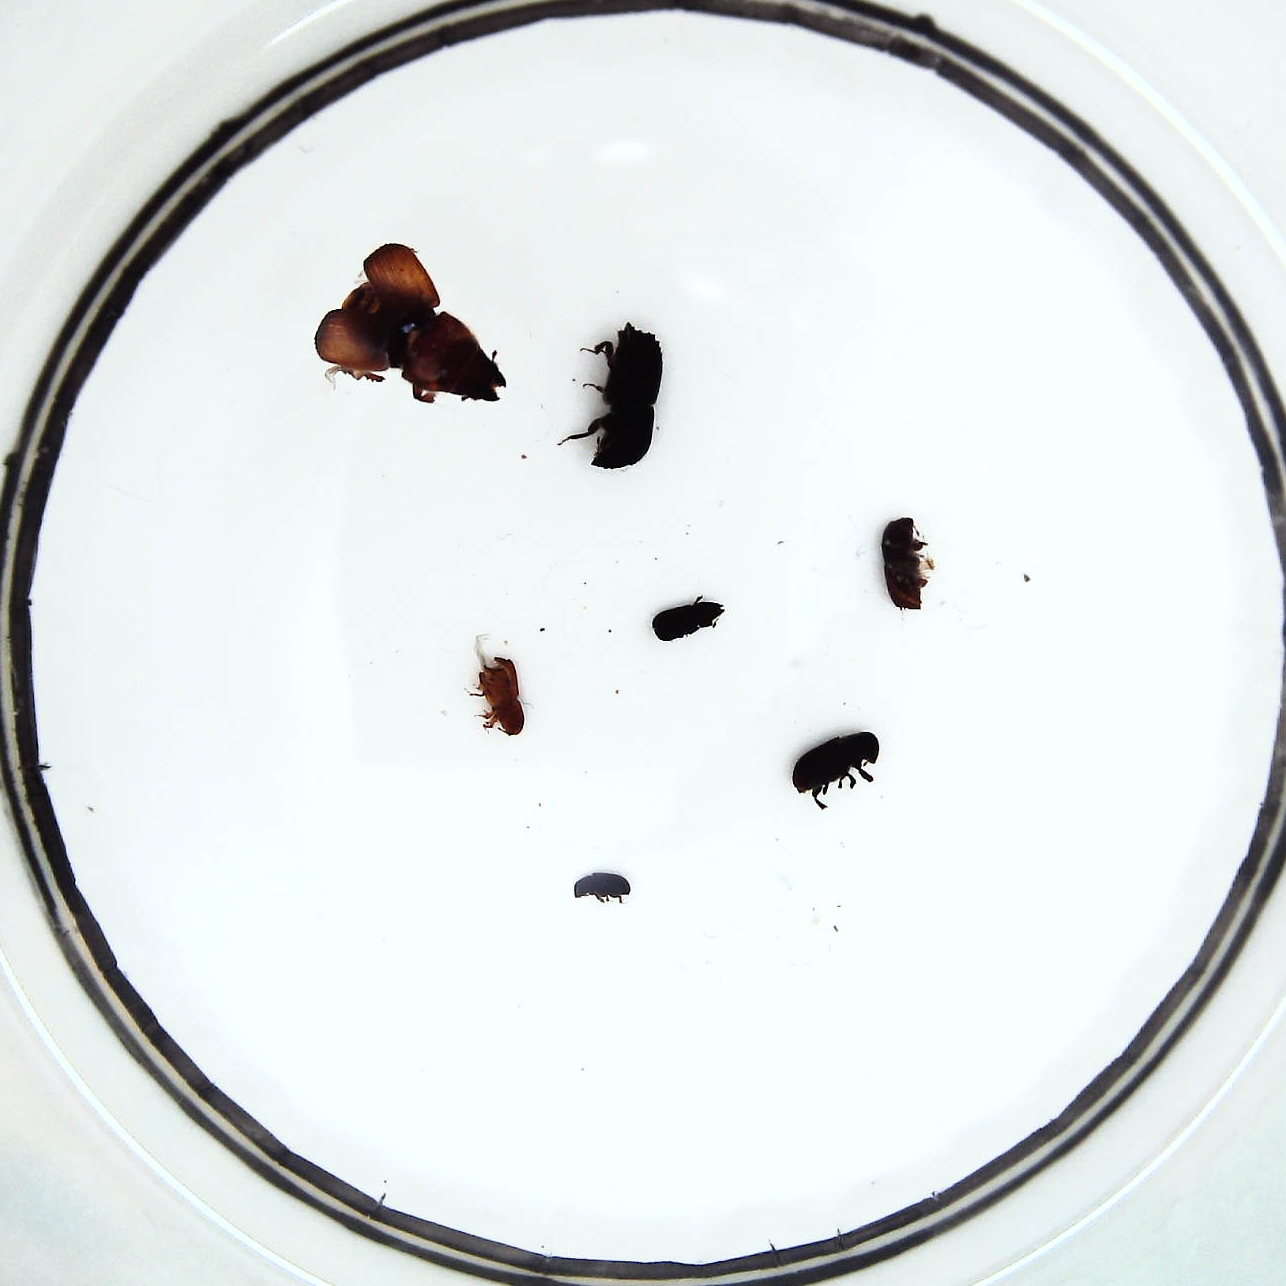Boerner: (586, 325, 665, 469)
Leconte: (317, 240, 508, 400)
Linnaeus: (879, 517, 929, 612)
acuminatus: (479, 655, 526, 736)
armandi: (791, 733, 881, 800)
coleoptera: (651, 599, 723, 639), (569, 871, 634, 904)
